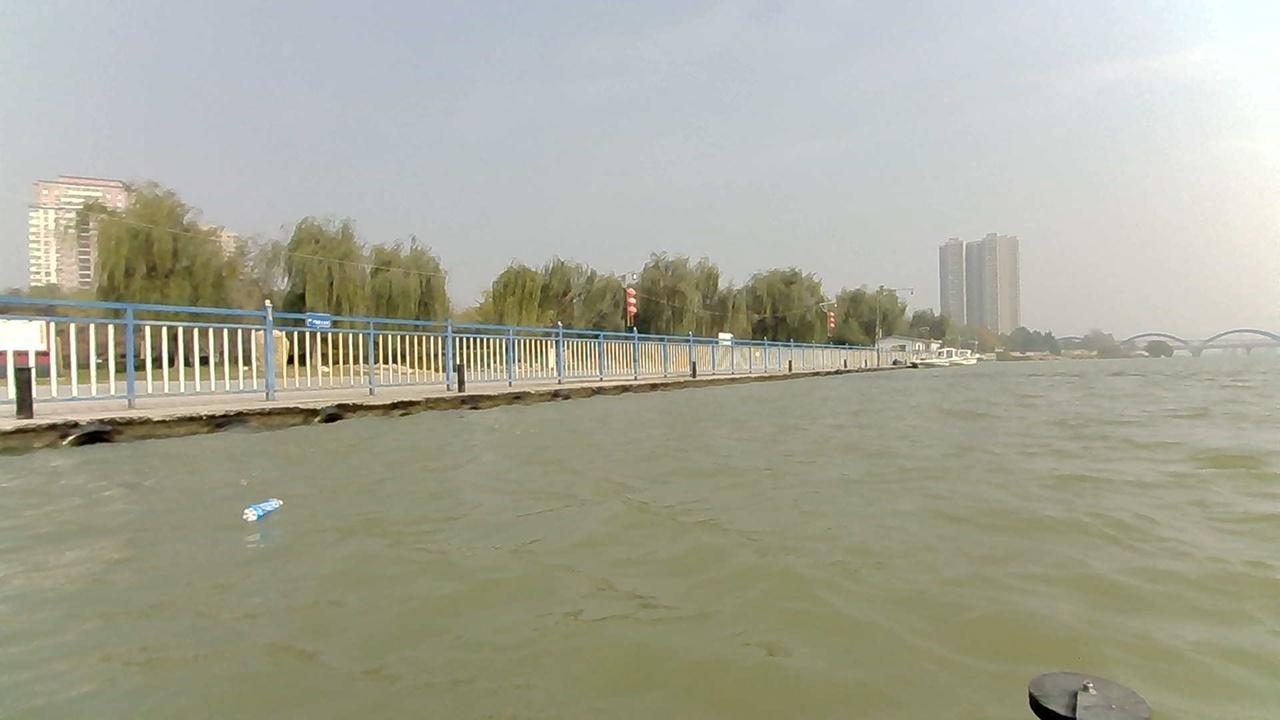bottle: (242, 496, 282, 521)
